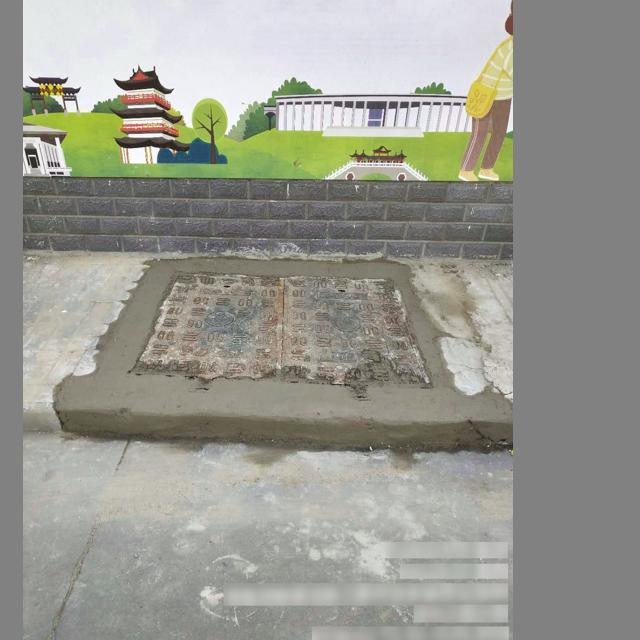good: (123, 269, 441, 400)
